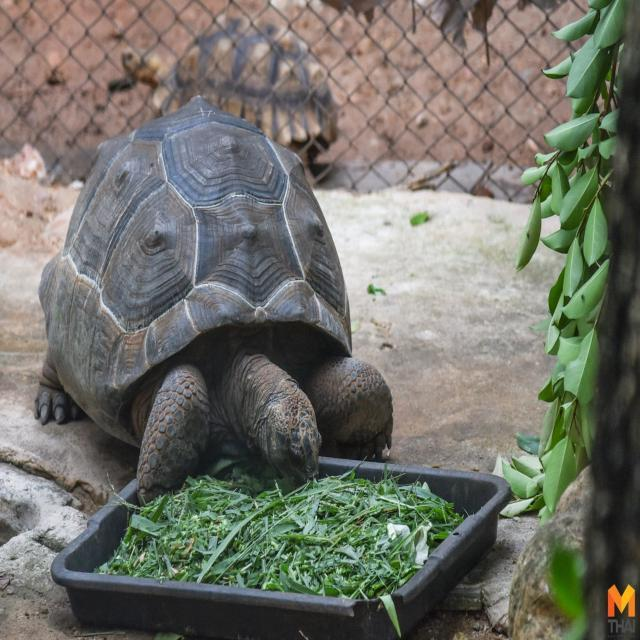Turtle: (42, 83, 404, 496)
